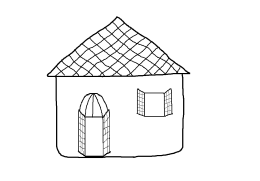door: (73, 89, 118, 160)
open_window: (137, 89, 173, 117)
roof: (47, 17, 192, 81)
wall: (52, 72, 189, 163)
